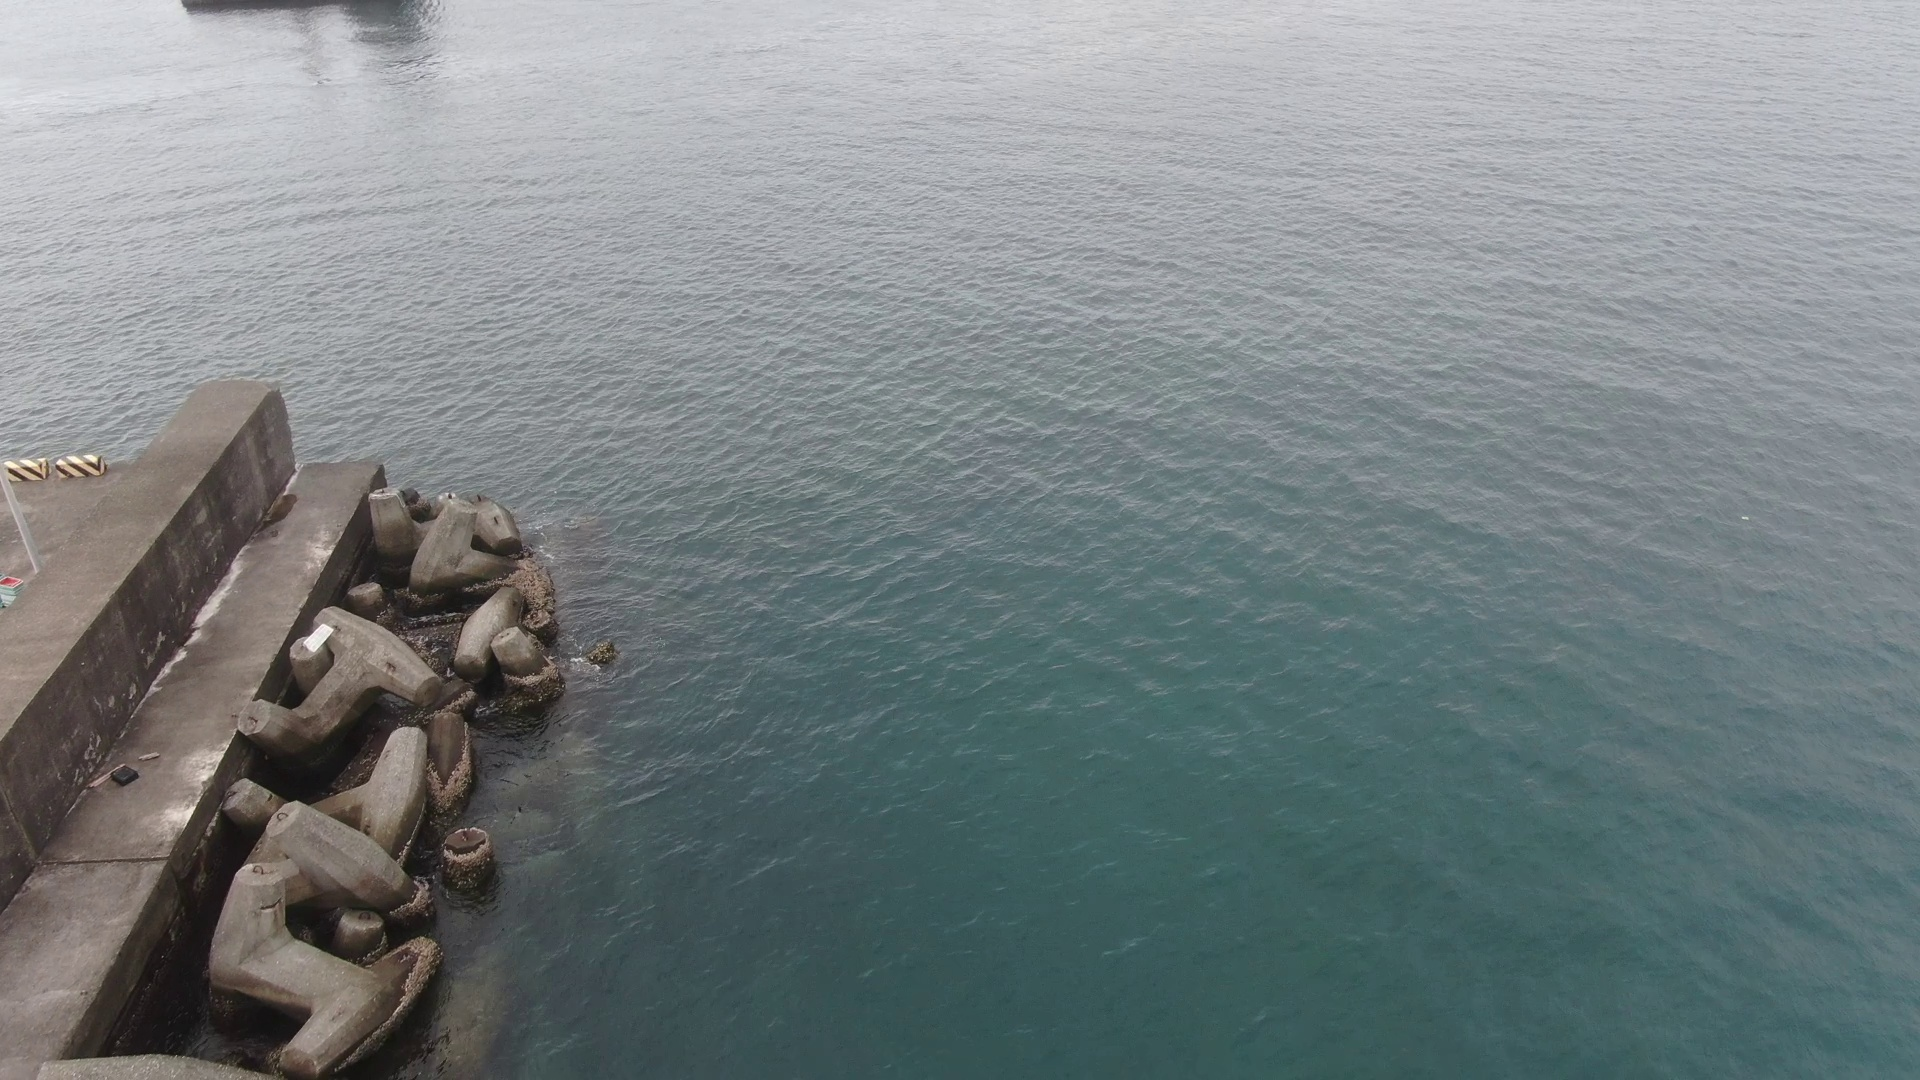garbage: (88, 752, 164, 795)
